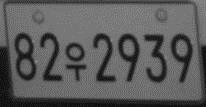2: (92, 31, 116, 82), (39, 31, 62, 81)
3: (142, 33, 168, 82)
8: (13, 31, 36, 81)
9: (170, 32, 193, 82), (117, 32, 140, 81)
우: (64, 42, 87, 81)
